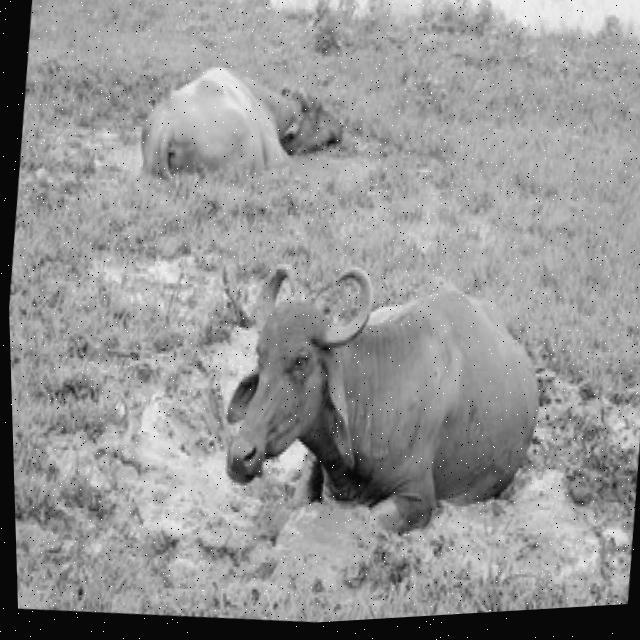Buffalo: (201, 233, 562, 586)
